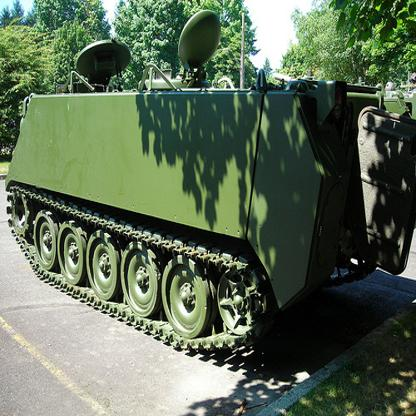Tank: (6, 74, 416, 355)
